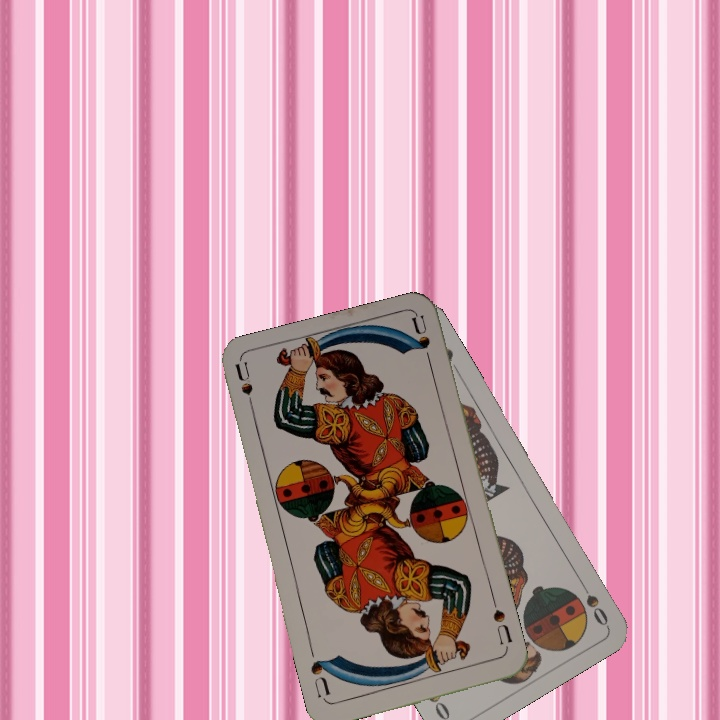SO: (574, 574, 611, 629)
SU: (231, 360, 259, 420), (489, 605, 515, 654)
